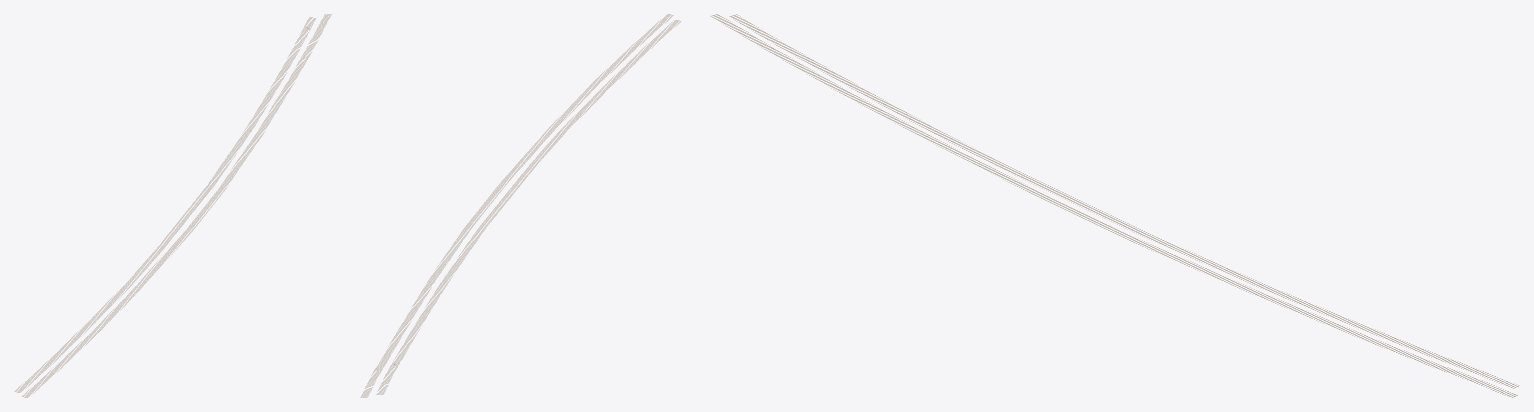
The model's file is c_1628_17834_rail_sleeper.glb.
3 views of the same model, side by side, from view 1: azimuth 30°, elevation 25°; view 2: azimuth 210°, elevation 25°; view 3: azimuth 270°, elevation 25° (orthographic). The views are drawn at different scales.
Parts seen in each view (by area): view 1: geometry_0; view 2: geometry_0; view 3: geometry_0.
Part boxes in pixels (bbox=[...]): geometry_0: bbox=[14, 14, 331, 397]; geometry_0: bbox=[360, 14, 680, 397]; geometry_0: bbox=[710, 14, 1519, 397].
Size of the model in its own units: 231 by 1.05 by 204.
